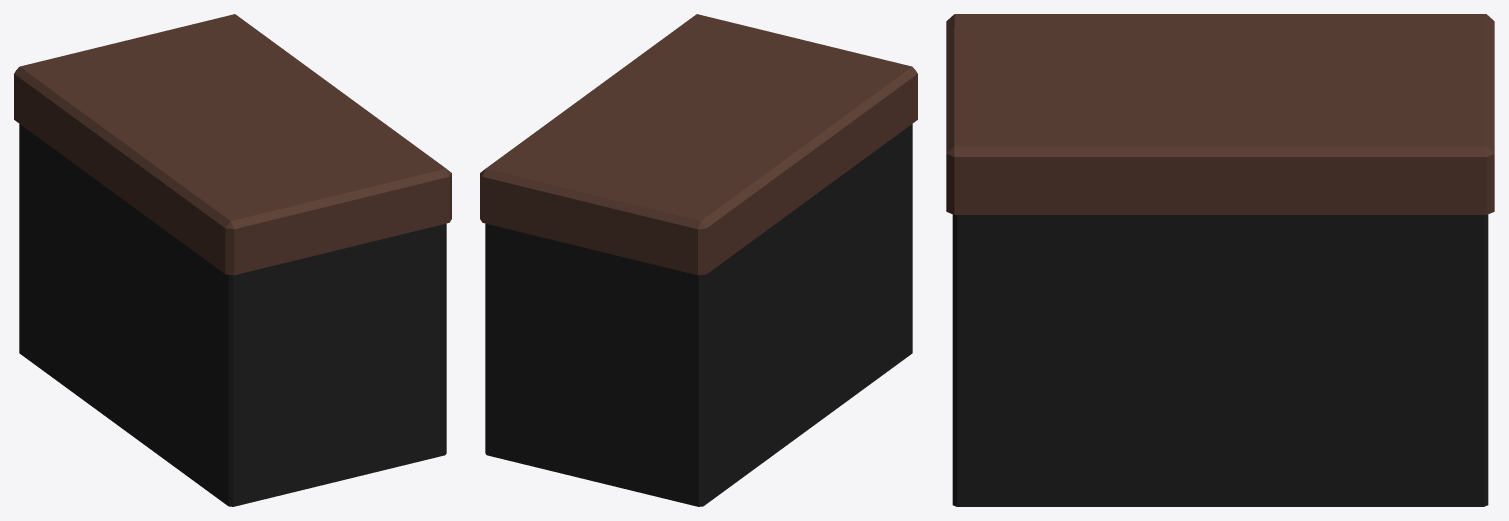
File: counterPrep.fbx
3 views of the same model, side by side, from view 1: azimuth 30°, elevation 25°; view 2: azimuth 150°, elevation 25°; view 3: azimuth 270°, elevation 25° (orthographic). The views are drawn at different scales.
Visible parts, largest first — view 1: Cube.007; view 2: Cube.007; view 3: Cube.007.
Part boxes in pixels (bbox=[...]): Cube.007: bbox=[14, 14, 451, 506]; Cube.007: bbox=[480, 14, 917, 506]; Cube.007: bbox=[946, 14, 1494, 506].
Size of the model in its own units: 870 by 630 by 523.
